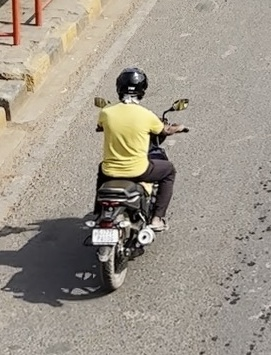BikeWithRider: (75, 63, 193, 296)
Helmet: (111, 64, 151, 105)
